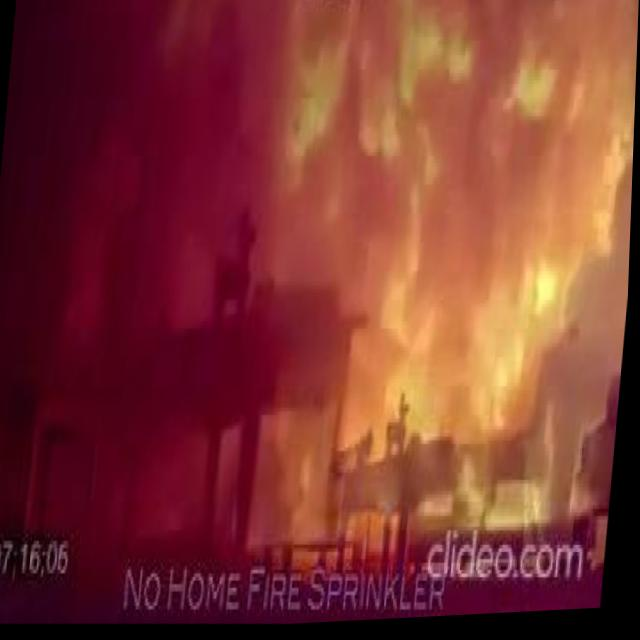fire: (268, 0, 640, 300), (347, 274, 563, 458), (425, 482, 590, 544), (258, 419, 337, 547)
